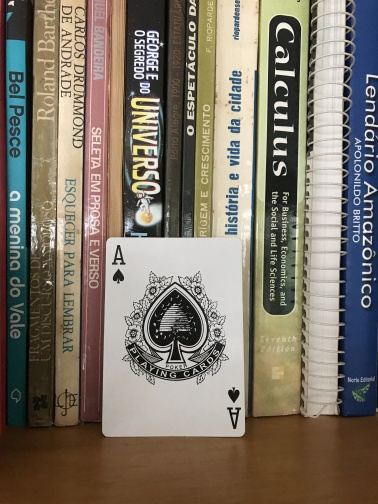ace: (99, 236, 247, 439)
